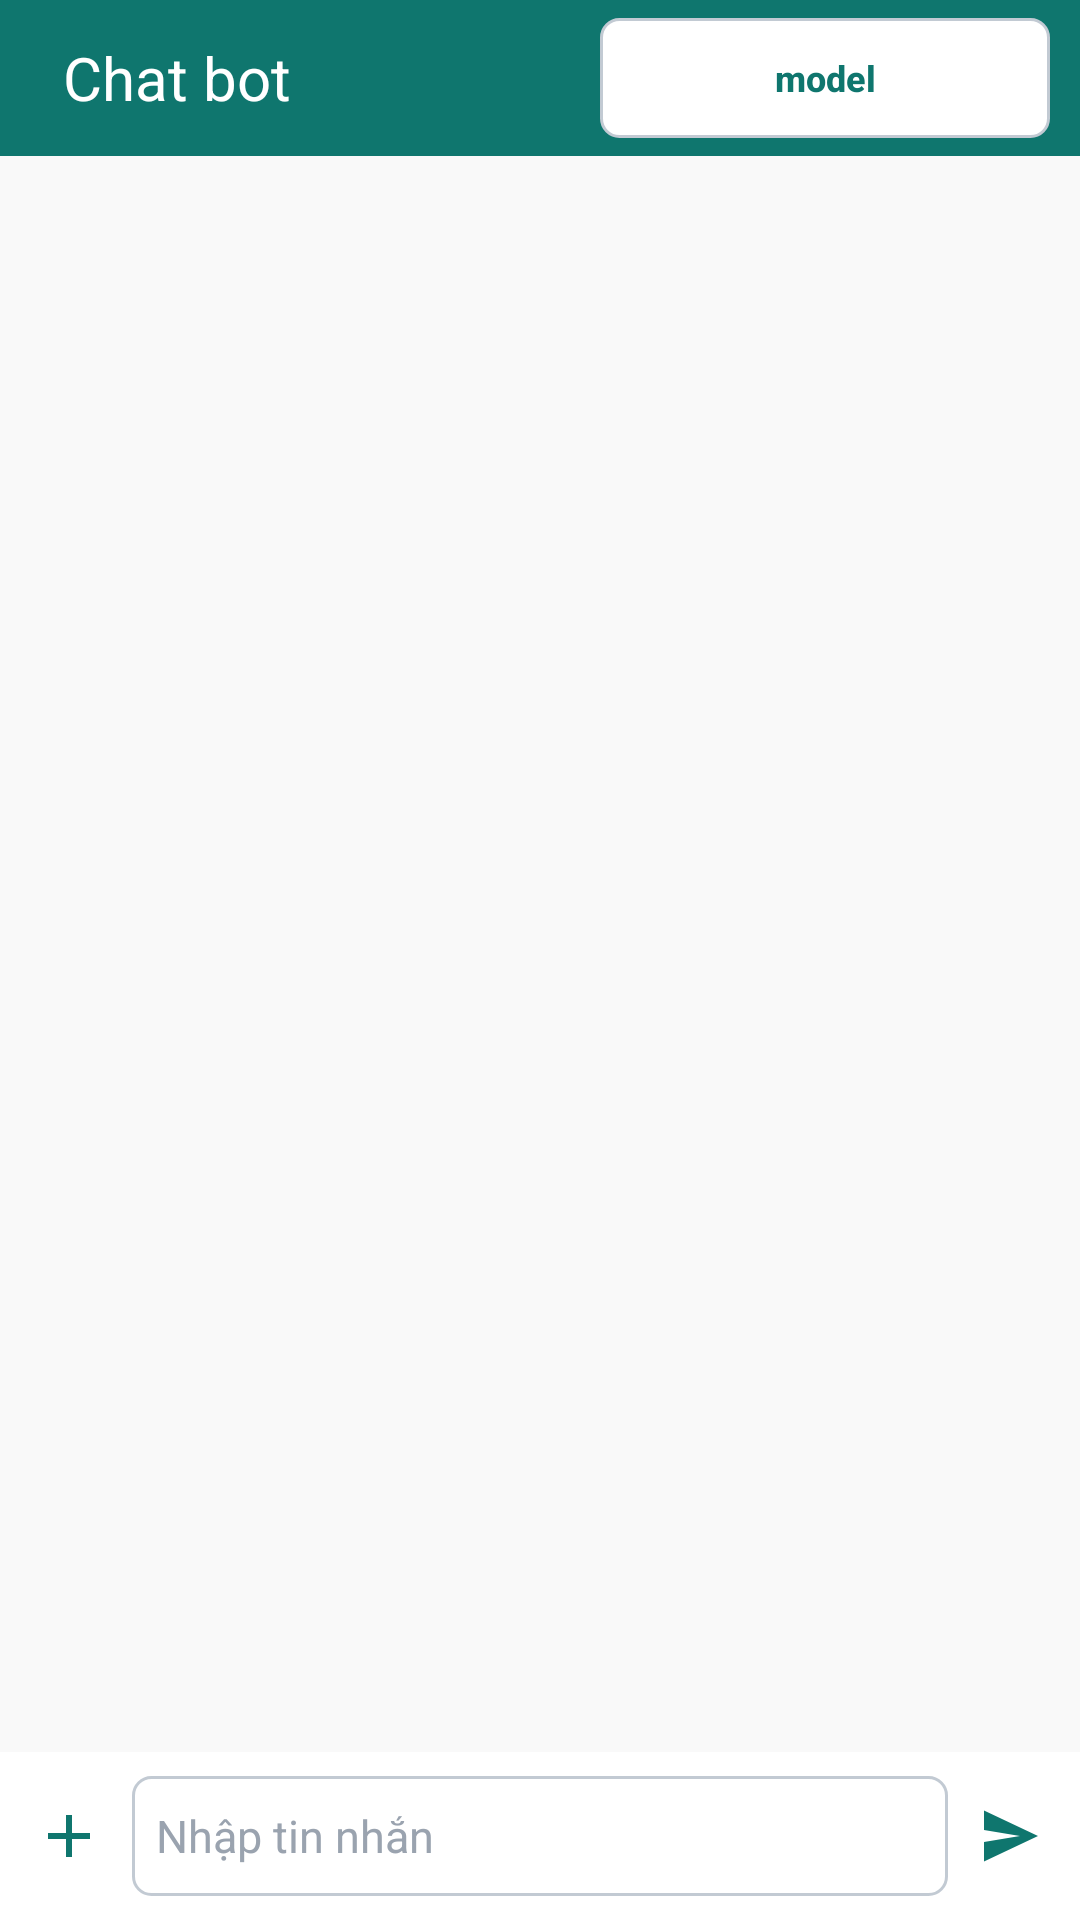

Point at icon controls on the screen. Image size 1080 × 1920, points as (x,y).
Chọn ảnh: (69,1836)
Gửi: (1011,1836)
